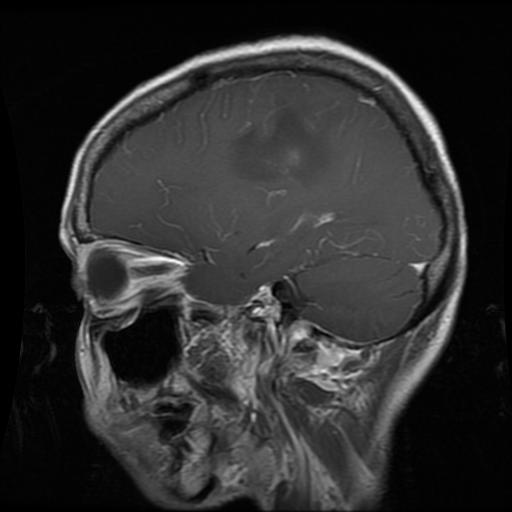Gliomia_tumour: (231, 94, 323, 184)
